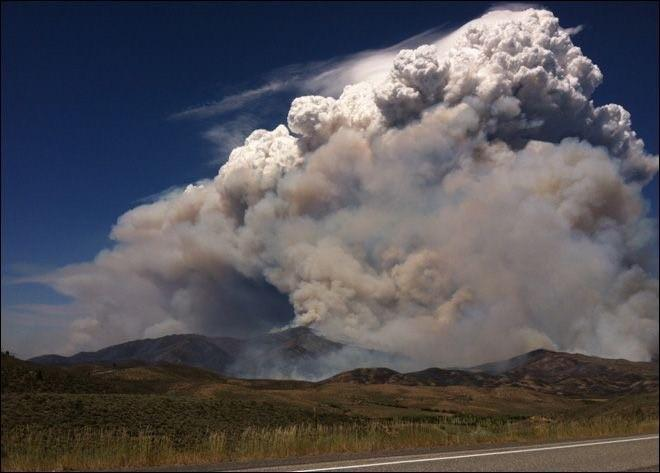smoke: (128, 0, 657, 398)
